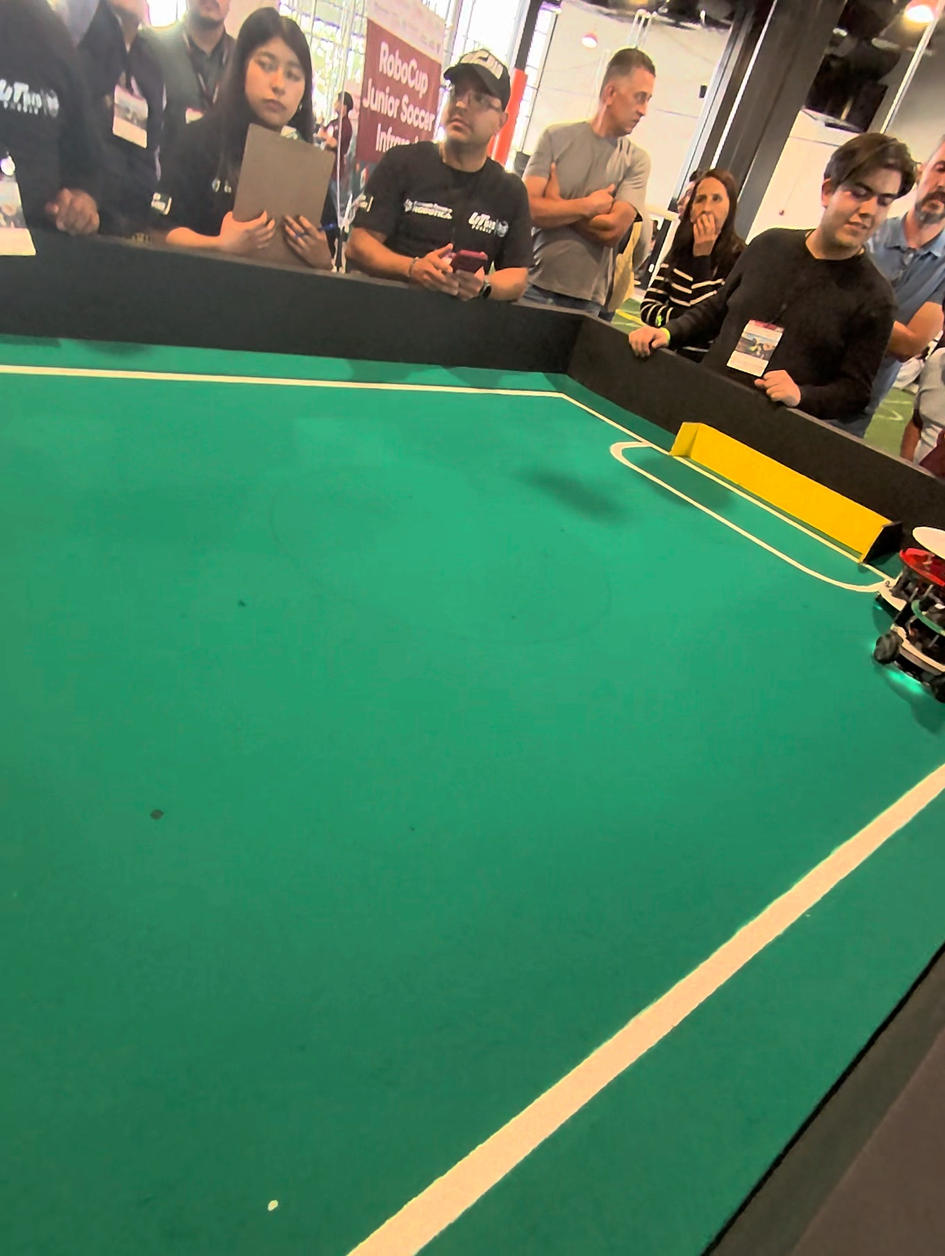Robot: (867, 533, 945, 736)
